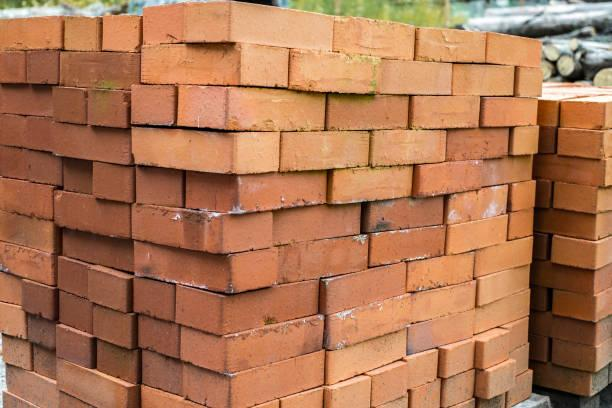Bricks: (176, 279, 318, 339), (182, 350, 328, 405), (136, 244, 283, 298), (183, 1, 333, 53), (179, 316, 325, 369), (129, 125, 284, 174), (176, 85, 327, 134), (138, 42, 289, 87), (134, 208, 282, 248), (185, 173, 325, 209), (324, 294, 412, 350), (290, 48, 381, 95), (327, 332, 406, 385), (321, 267, 405, 312), (334, 17, 415, 60), (374, 56, 456, 97), (407, 249, 477, 297), (49, 363, 125, 407), (56, 194, 137, 234), (283, 135, 368, 172), (324, 93, 411, 129), (408, 309, 475, 354), (468, 267, 531, 311), (410, 280, 475, 322), (413, 93, 479, 133), (4, 142, 61, 187), (475, 298, 533, 342), (283, 245, 364, 276), (331, 173, 413, 203), (378, 129, 451, 162), (0, 174, 63, 212), (480, 90, 539, 130), (62, 53, 143, 82), (415, 30, 486, 63), (63, 233, 135, 264), (271, 213, 365, 236), (0, 17, 63, 51), (81, 87, 127, 131), (451, 63, 512, 96), (535, 209, 612, 235), (369, 204, 456, 227), (370, 231, 445, 257), (0, 84, 56, 117), (133, 85, 178, 126), (540, 365, 610, 391), (93, 161, 136, 202), (136, 276, 174, 322), (0, 214, 52, 247), (553, 291, 612, 320), (132, 172, 177, 209), (538, 265, 612, 287), (473, 241, 533, 268), (450, 189, 505, 218), (445, 225, 508, 250), (93, 345, 139, 379), (552, 183, 612, 209), (90, 266, 130, 305), (376, 365, 414, 406), (438, 370, 480, 407), (485, 360, 520, 404), (490, 37, 541, 67), (536, 321, 612, 341), (94, 309, 135, 345), (60, 154, 94, 197), (558, 238, 612, 265), (417, 168, 483, 190), (554, 341, 612, 366), (533, 161, 602, 182), (61, 16, 100, 52), (102, 14, 138, 53), (52, 88, 88, 127), (144, 4, 179, 43), (2, 248, 52, 275), (138, 318, 177, 352), (321, 381, 371, 407), (562, 104, 611, 130), (452, 133, 505, 156), (1, 48, 32, 87), (28, 50, 61, 86), (409, 352, 441, 387), (485, 159, 533, 181), (143, 353, 174, 386), (29, 277, 56, 314), (444, 347, 480, 374), (55, 326, 87, 356), (60, 260, 89, 293), (61, 298, 93, 327), (410, 379, 441, 407), (1, 337, 35, 362), (511, 372, 535, 407), (482, 335, 508, 366), (516, 67, 541, 99), (560, 135, 602, 153), (511, 346, 534, 377), (0, 304, 23, 334), (0, 277, 27, 301), (511, 320, 533, 348), (511, 187, 538, 209), (31, 319, 53, 344), (34, 346, 54, 373), (515, 132, 543, 151), (510, 211, 532, 234)
